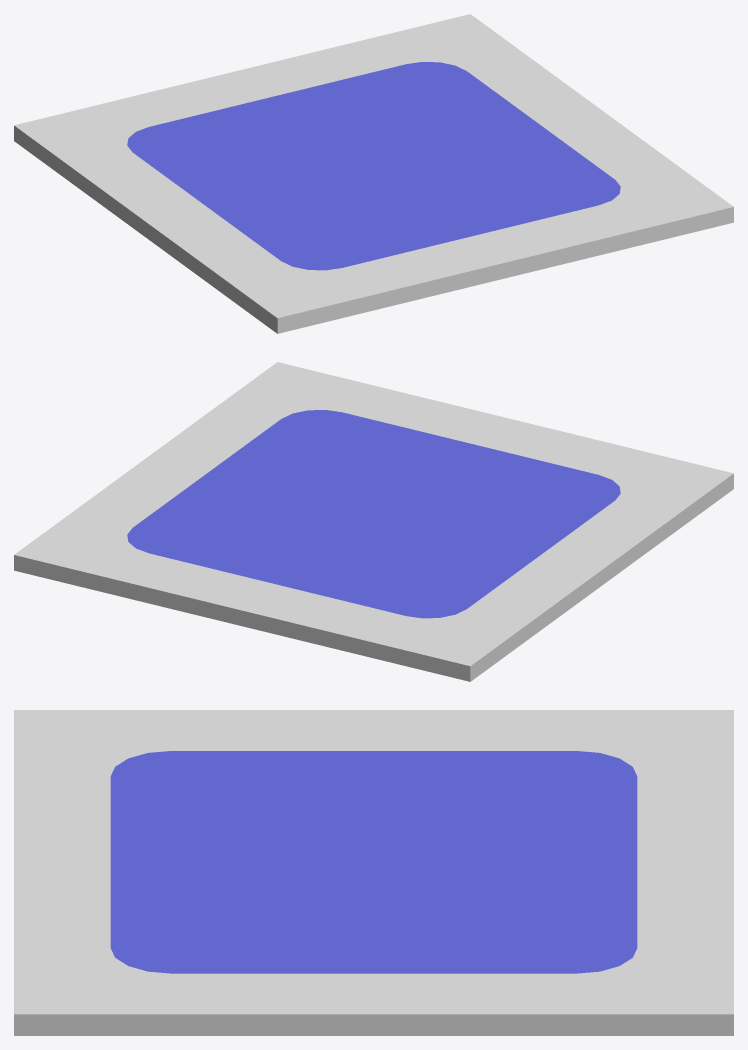
The picture shows the model from 3 angles, top to bottom: view 1: azimuth 30°, elevation 25°; view 2: azimuth 150°, elevation 25°; view 3: azimuth 270°, elevation 25°; orthographic projection. The views are drawn at different scales.
Parts seen in each view (by area): view 1: Base_Cube_01; view 2: Base_Cube_01; view 3: Base_Cube_01.
Boxes of the visible parts, left/top/right/bottom form: Base_Cube_01: left=14, top=14, right=733, bottom=333; Base_Cube_01: left=14, top=362, right=733, bottom=681; Base_Cube_01: left=14, top=710, right=733, bottom=1035.
Size of the model in its own units: 0.7027 by 0.0231 by 0.7027.
